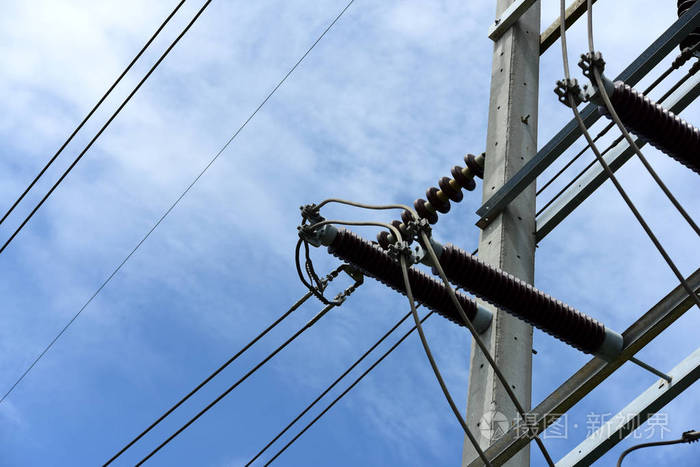insulator: (377, 151, 488, 245)
